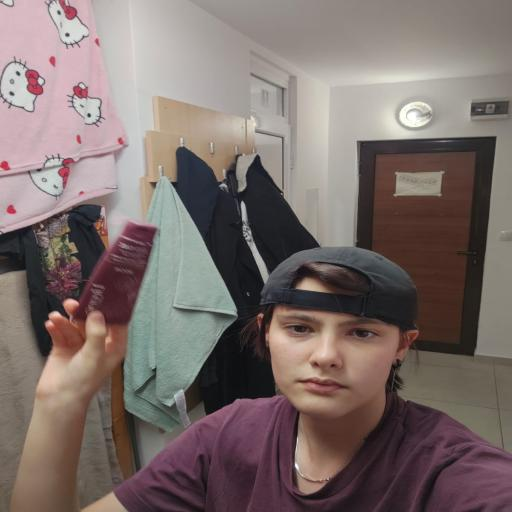Hand Cream: (71, 219, 158, 324)
